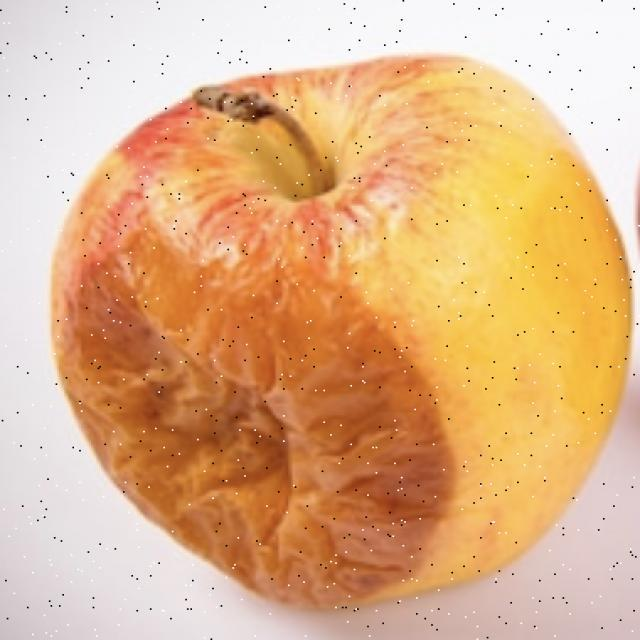Rotten: (51, 57, 632, 633)
